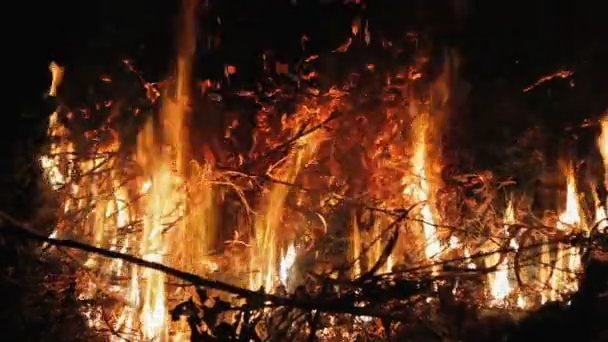fire: (32, 108, 217, 342), (406, 119, 473, 269), (250, 189, 295, 294), (485, 240, 520, 310), (541, 244, 579, 301), (560, 170, 581, 227), (350, 215, 361, 277), (591, 189, 606, 229), (597, 118, 608, 163), (47, 62, 62, 94), (503, 201, 515, 224)
